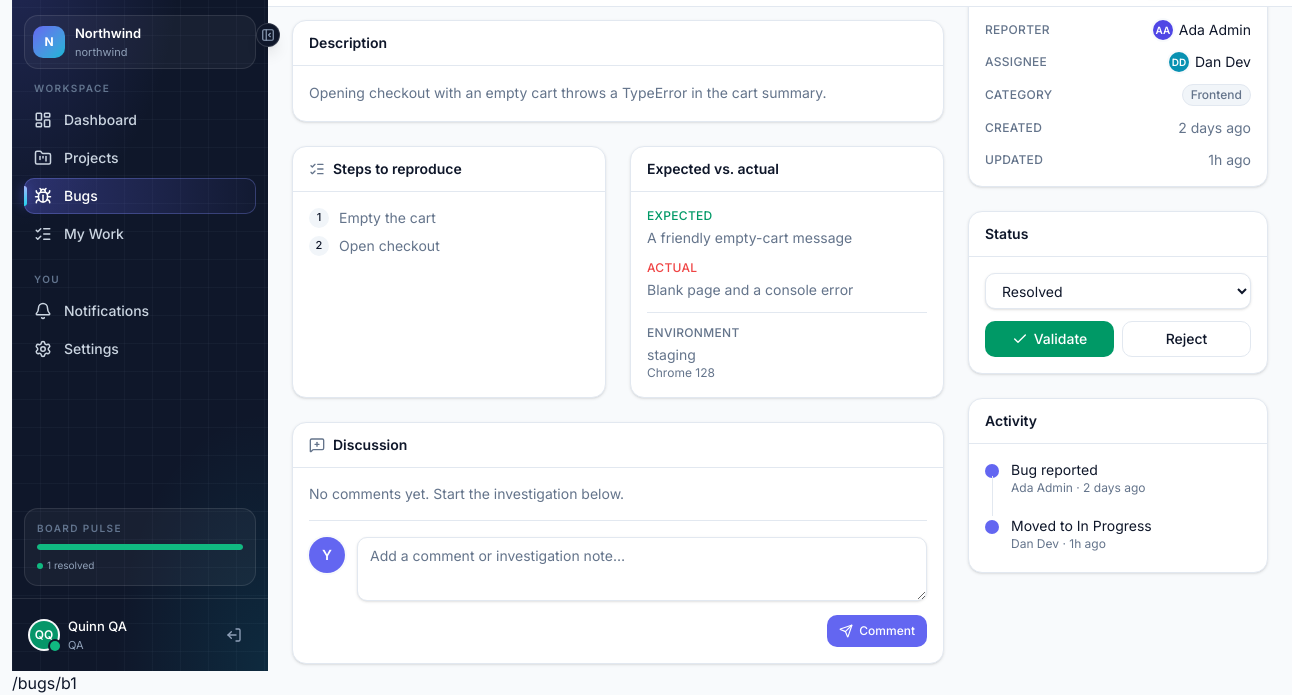
Test: bug workflow transitions › lets QA validate a resolved bug
The width and height of the screenshot is (1292, 695).
(page scrolled)
Click the button "Validate".
click(1050, 339)  # box [985,321,1114,357]
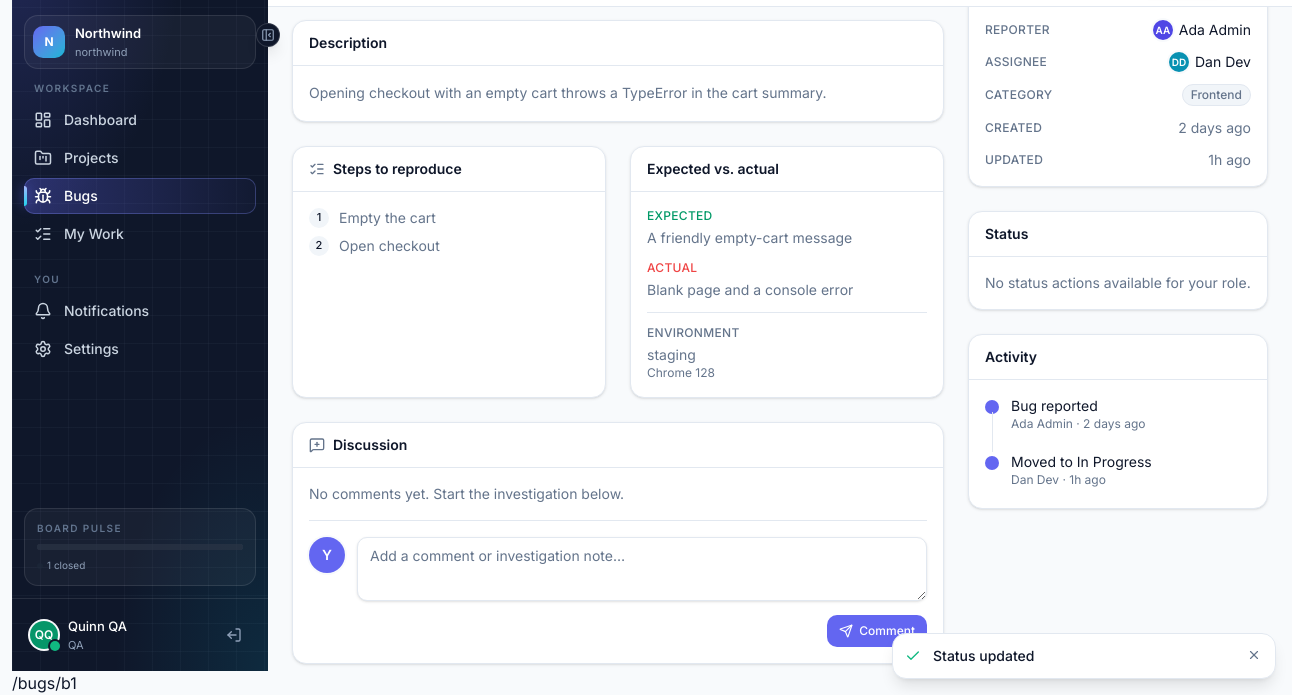
expect the text "Status updated" is shown: met, box [933,647,1034,664]
